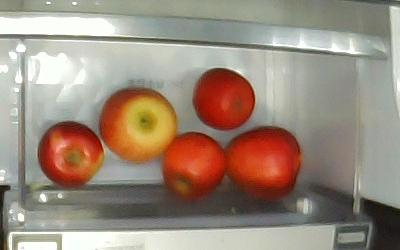apple: (99, 88, 178, 162), (224, 126, 300, 200), (37, 121, 103, 186), (161, 133, 224, 197), (191, 68, 256, 129)
